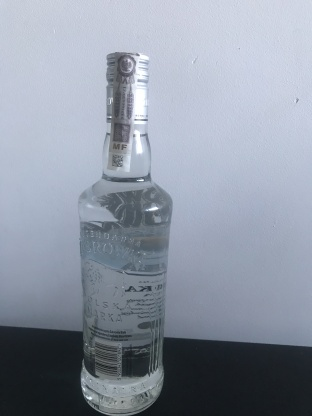nakretka: (103, 47, 152, 127)
